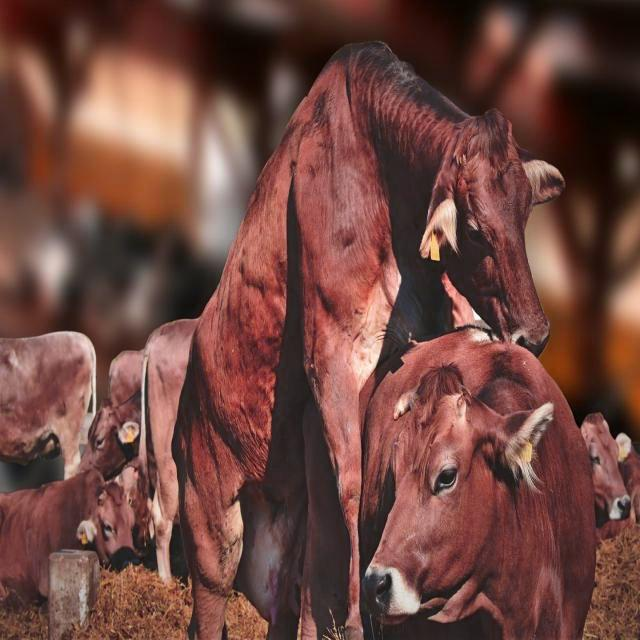cow: (175, 42, 564, 640), (360, 328, 595, 639)
